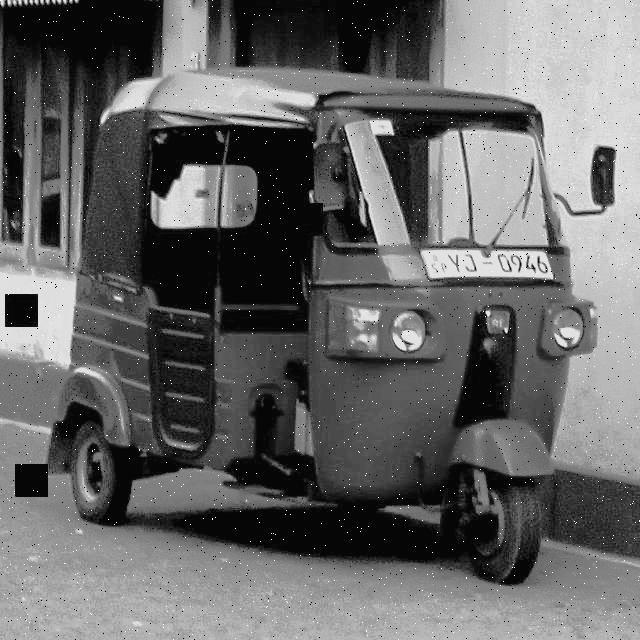Auto-Rickshaw: (77, 41, 640, 639)
